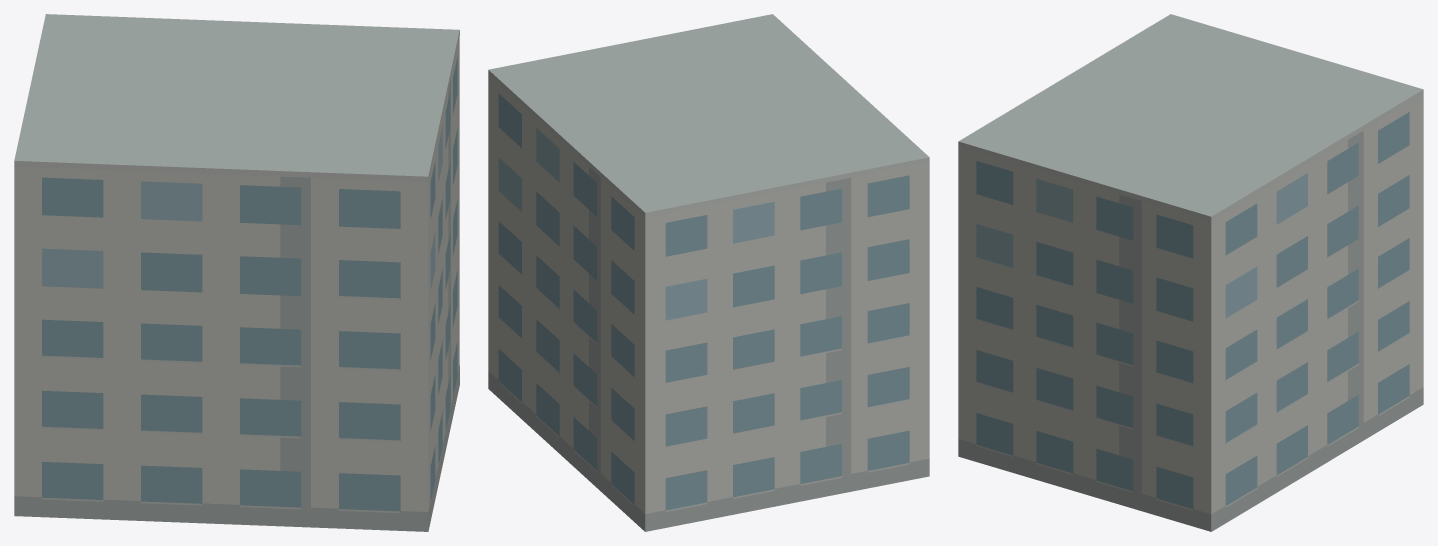
Rendered from residential-a50e19cc-b2b5-4908-9a6c-63accb13d65a.glb.
3 views of the same model, side by side, from view 1: azimuth 30°, elevation 25°; view 2: azimuth 150°, elevation 25°; view 3: azimuth 270°, elevation 25° (orthographic). The views are drawn at different scales.
Parts seen in each view (by area): view 1: residential-a50e19cc-b2b5-4908-9a6c-63accb13d65a.tmp; view 2: residential-a50e19cc-b2b5-4908-9a6c-63accb13d65a.tmp; view 3: residential-a50e19cc-b2b5-4908-9a6c-63accb13d65a.tmp.
Part boxes in pixels (box(x1,y1,x2,y2)): residential-a50e19cc-b2b5-4908-9a6c-63accb13d65a.tmp: box(14, 14, 459, 531); residential-a50e19cc-b2b5-4908-9a6c-63accb13d65a.tmp: box(488, 14, 929, 531); residential-a50e19cc-b2b5-4908-9a6c-63accb13d65a.tmp: box(958, 14, 1423, 531).
Size of the model in its own units: 21.05 by 15.25 by 20.41.
